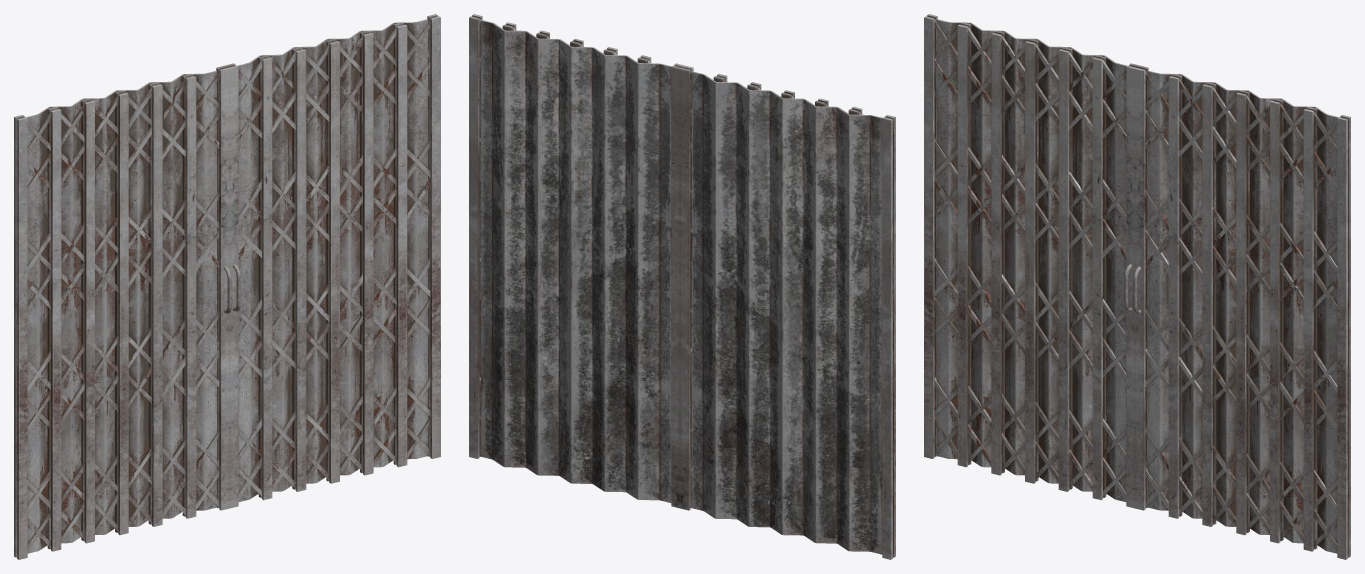
Rendered from SM_Folding_Doors_Short_Closed.glb.
3 views of the same model, side by side, from view 1: azimuth 30°, elevation 25°; view 2: azimuth 150°, elevation 25°; view 3: azimuth 330°, elevation 25° (orthographic).
Parts seen in each view (by area): view 1: SM_Folding_Doors_Short_Closed; view 2: SM_Folding_Doors_Short_Closed; view 3: SM_Folding_Doors_Short_Closed.
Part boxes in pixels (<box>): SM_Folding_Doors_Short_Closed: <box>14,14,440,559</box>; SM_Folding_Doors_Short_Closed: <box>469,14,895,559</box>; SM_Folding_Doors_Short_Closed: <box>924,14,1350,559</box>.
Size of the model in its own units: 2.66 by 2.65 by 0.1462.
1 material, 1 textured.
